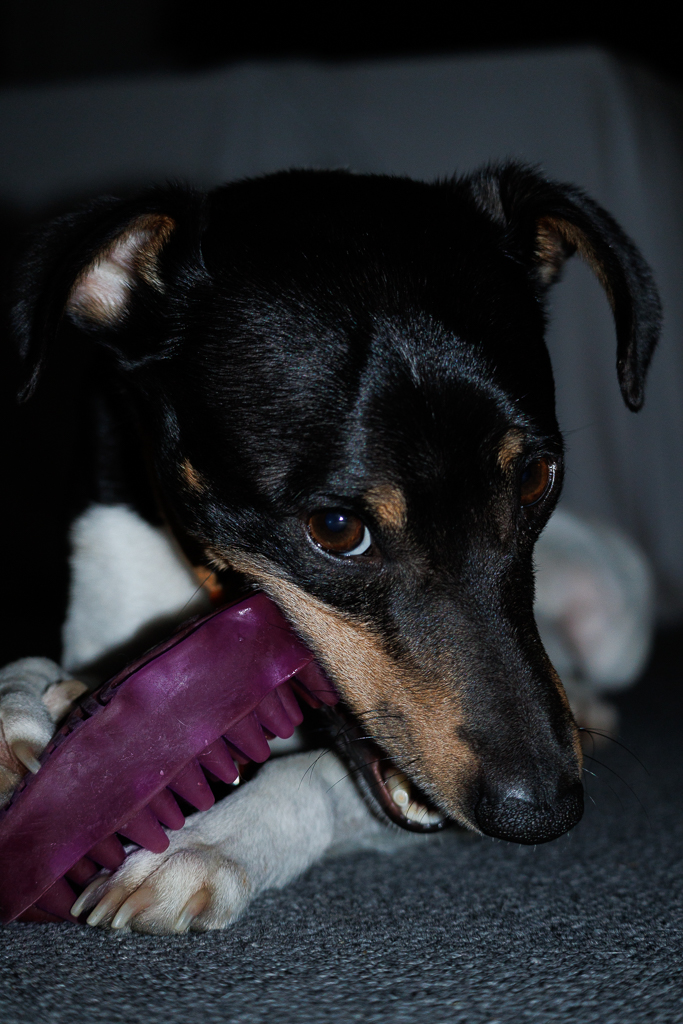Dog: (0, 151, 674, 952)
